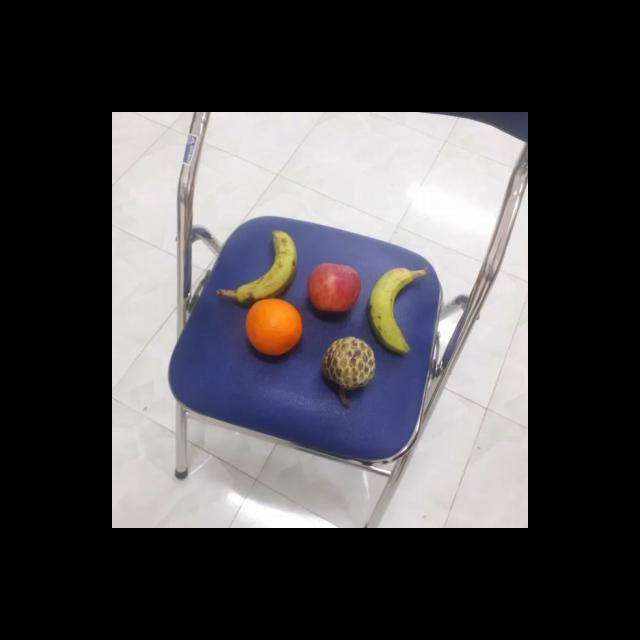Sakya fruit: (322, 335, 378, 391)
apple: (304, 260, 360, 316)
banana: (224, 228, 302, 302), (366, 266, 430, 353)
orange: (242, 296, 300, 358)
